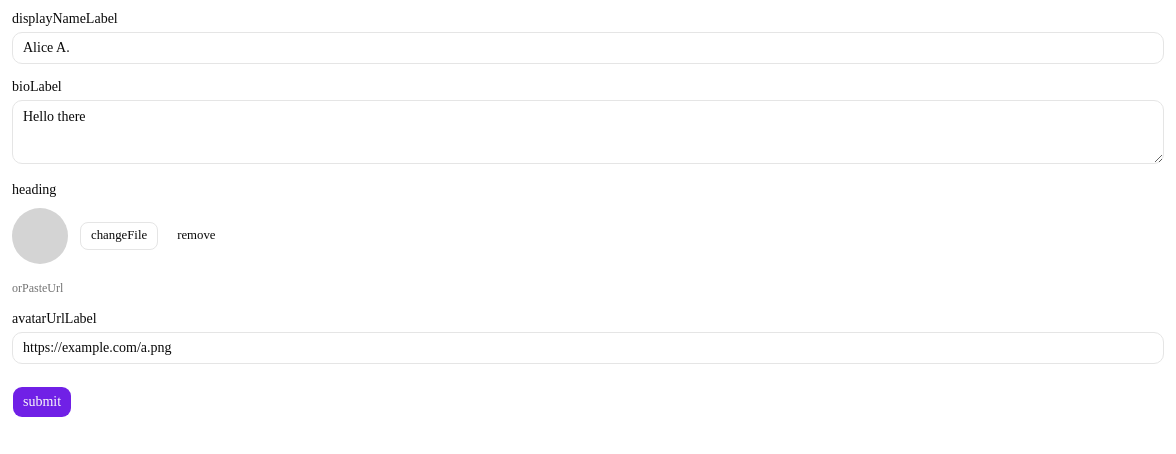
Test case: AccountProfileForm › shows an unauthorized message on a 401 without a toast
Click the button "submit" at (42, 402), box [12,386,72,418]
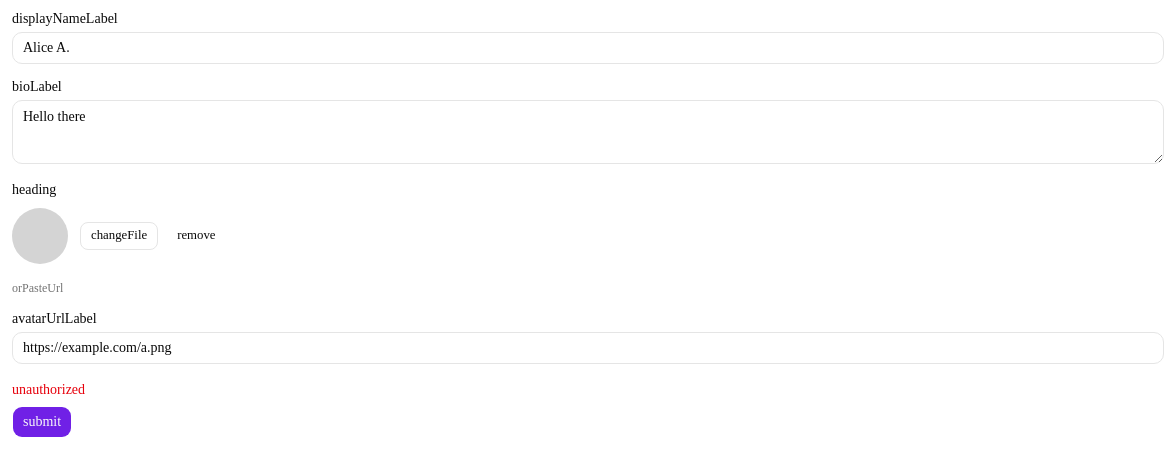
Result: the text "unauthorized" is shown at [12,382,85,397]
